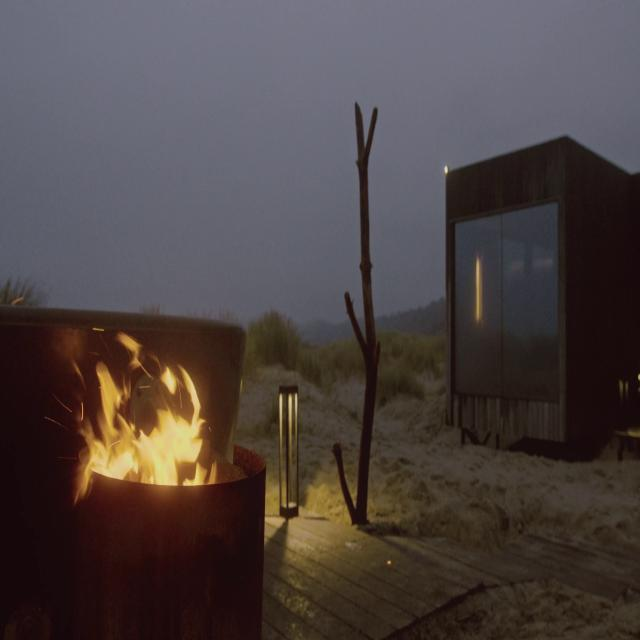Fire: (68, 333, 220, 498)
